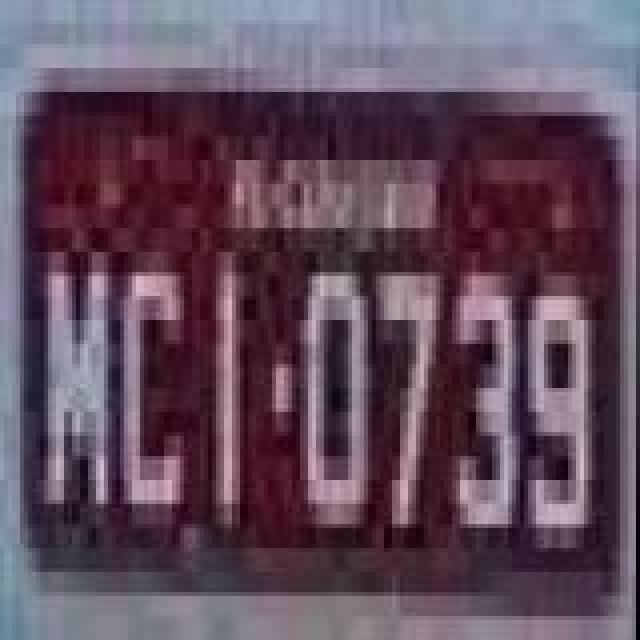1: (212, 262, 248, 514)
3: (452, 276, 520, 548)
7: (376, 262, 444, 538)
9: (528, 288, 596, 560)
C: (120, 274, 188, 526)
M: (44, 250, 112, 526)
O: (296, 262, 372, 538)
